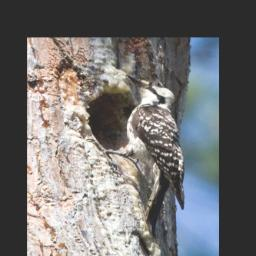Woodpecker: (104, 70, 192, 242)
